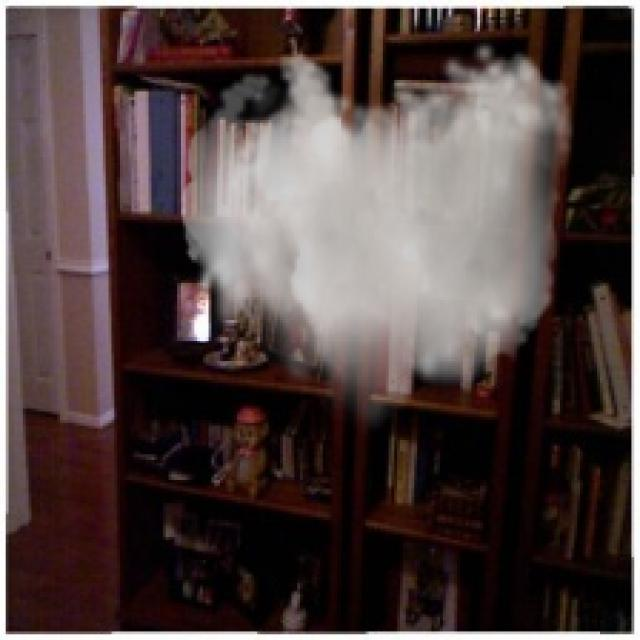Smoke: (180, 37, 574, 437)
